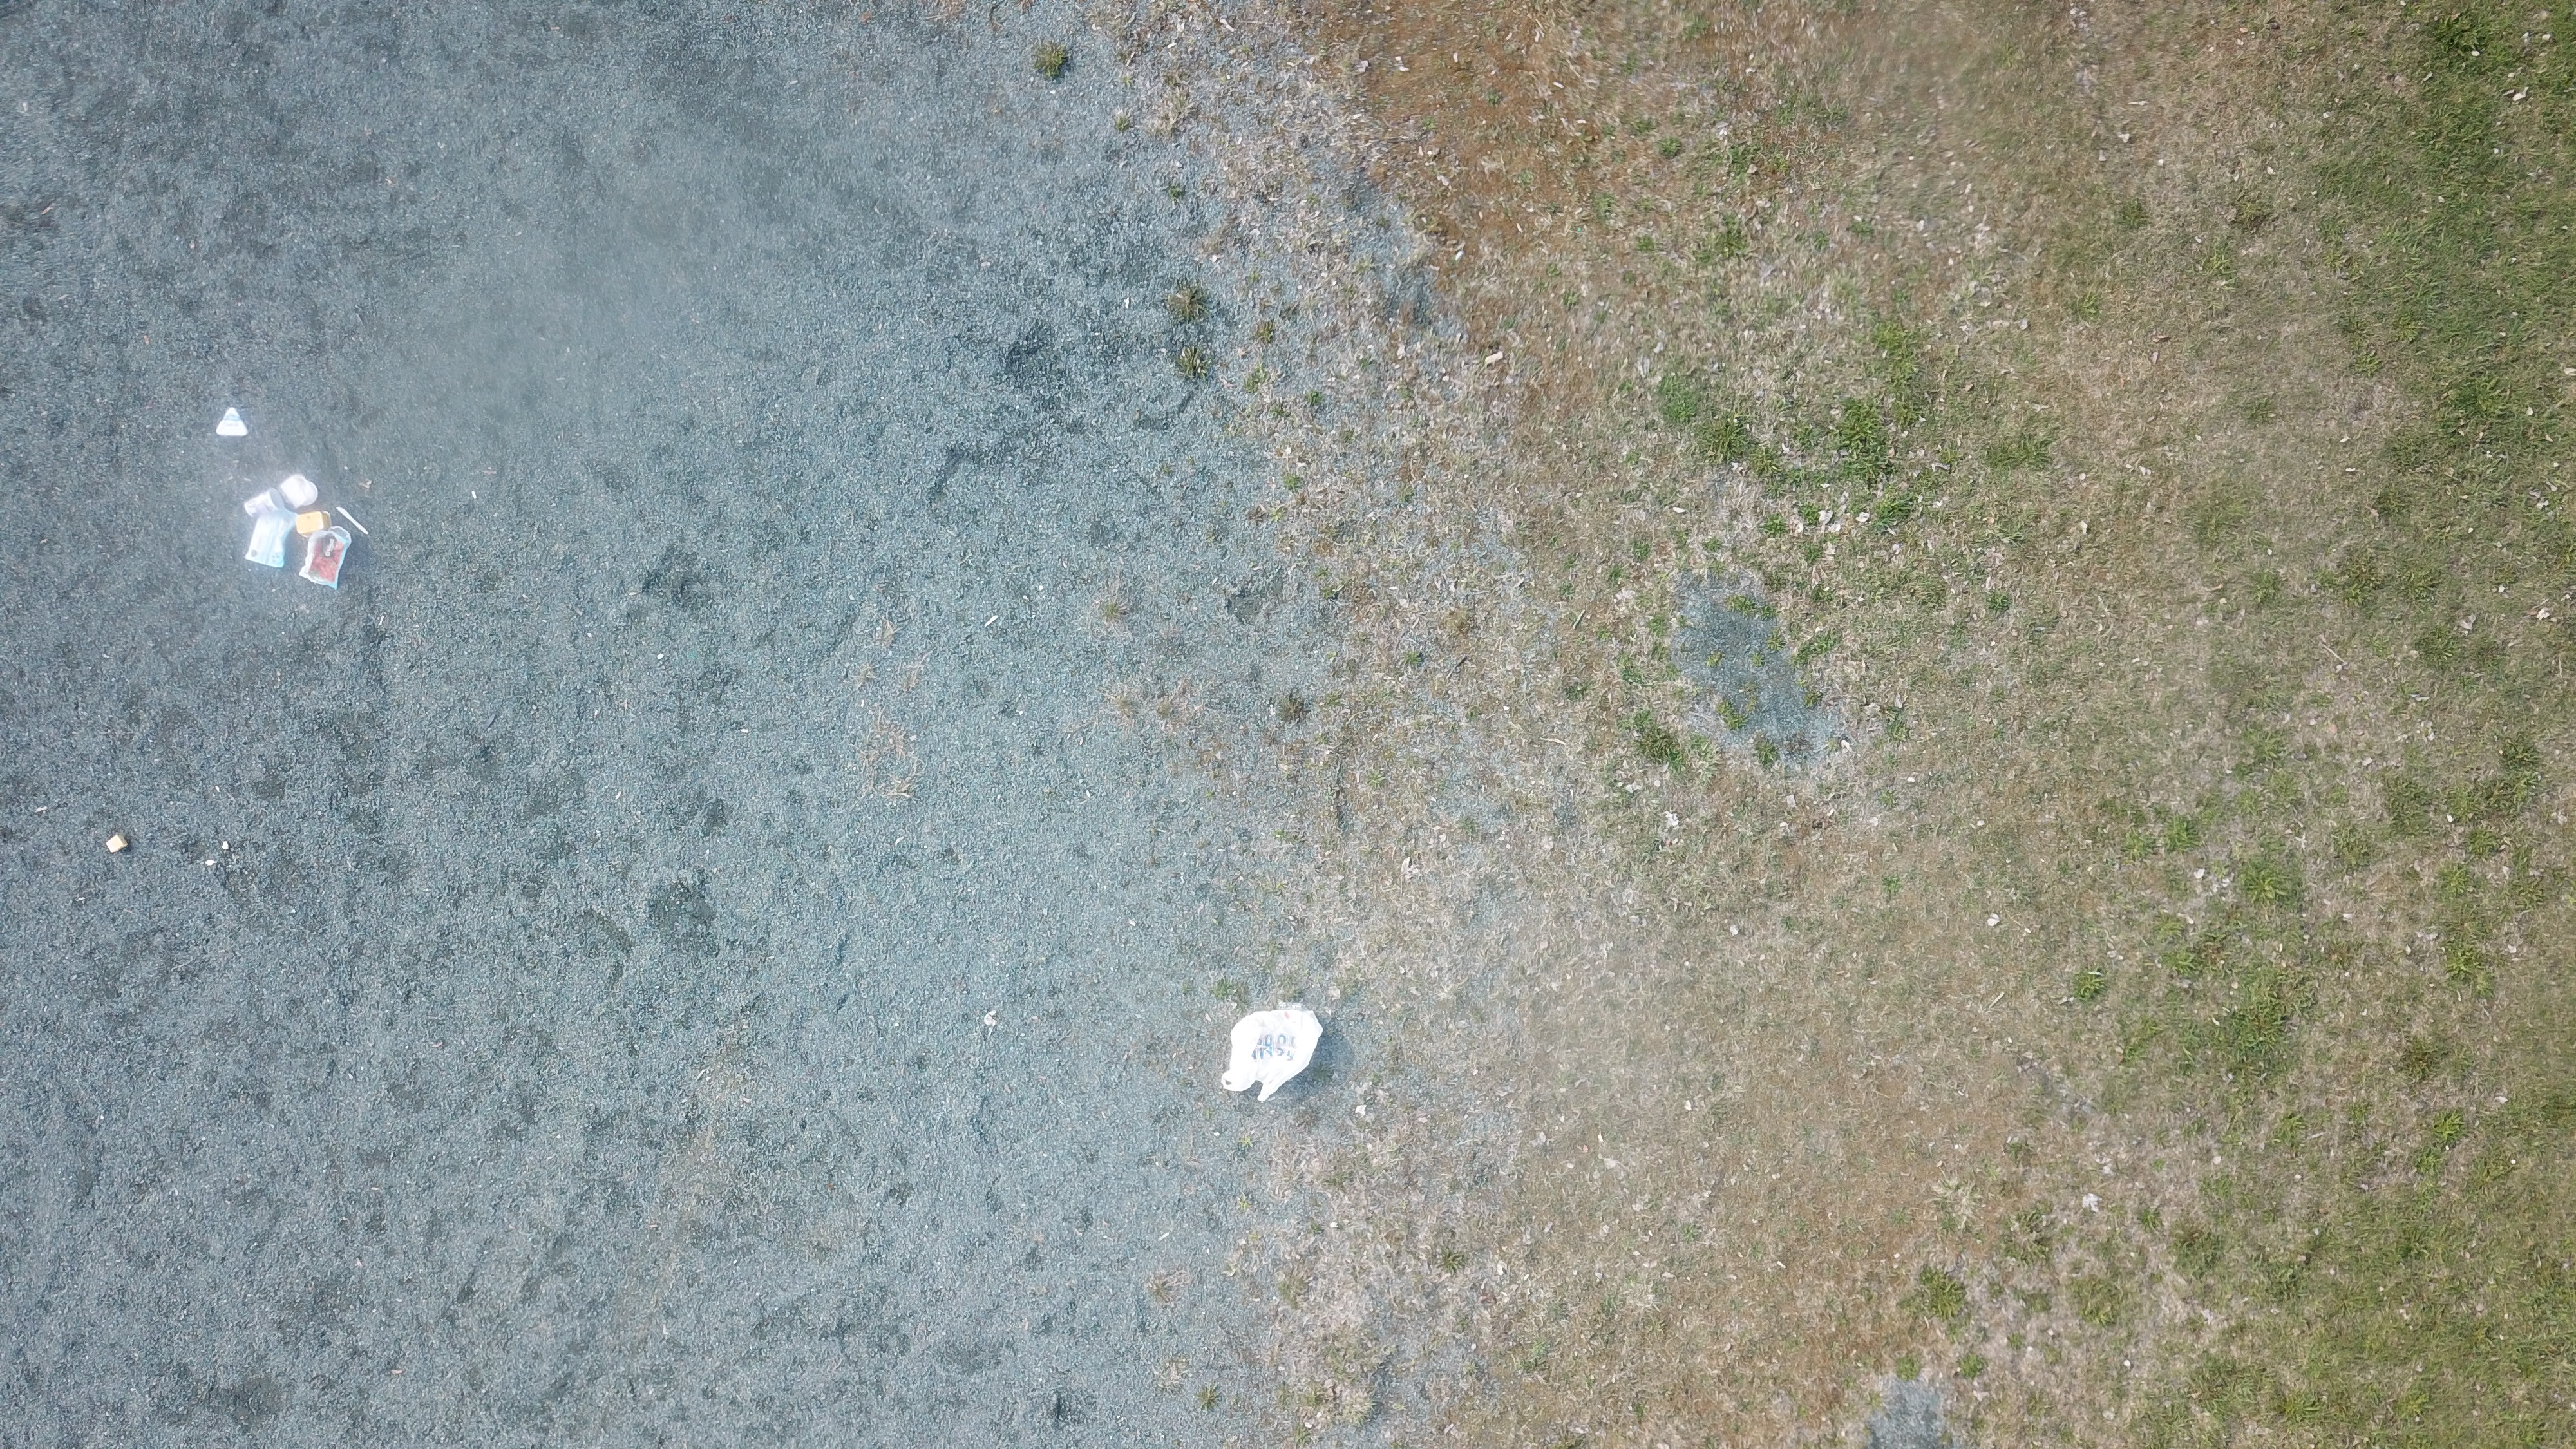Plastic: (1223, 1007, 1323, 1106), (301, 527, 350, 591), (251, 506, 299, 566), (280, 476, 318, 506), (294, 510, 331, 540), (246, 487, 285, 515), (336, 506, 370, 534), (218, 407, 249, 435), (104, 835, 133, 853)
